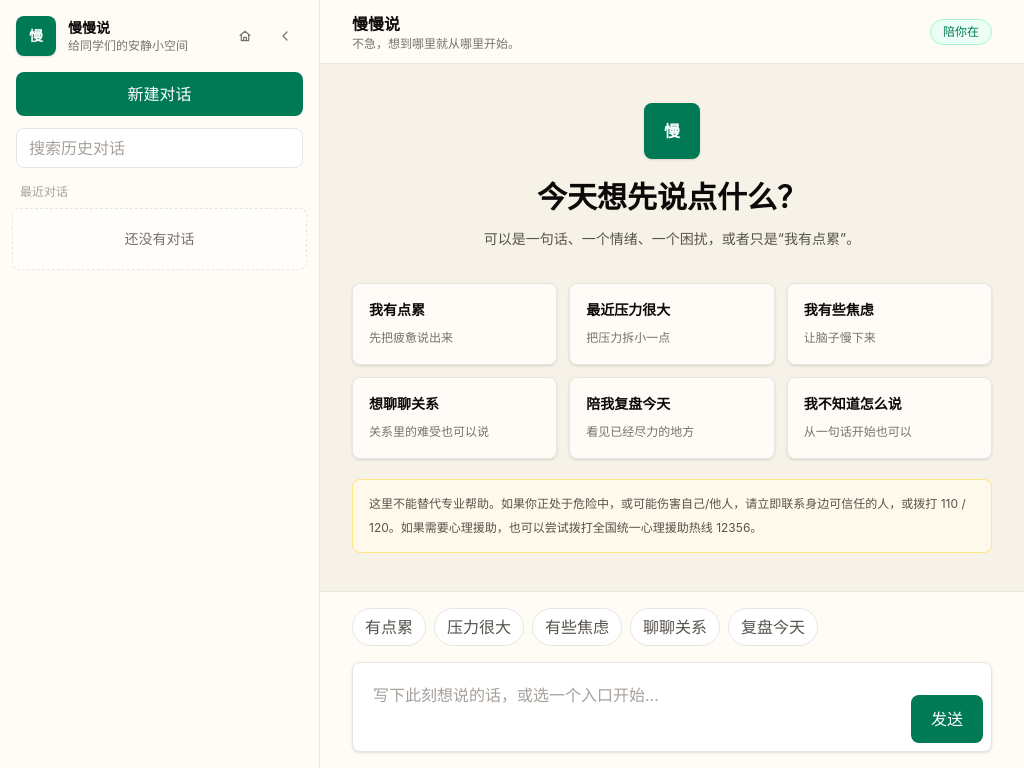
Test: ChatApp › streams assistant replies into the active message bubble
The width and height of the screenshot is (1024, 768).
Type "hello" into the text box named "消息输入" at (630, 707), box [361,671,899,743]
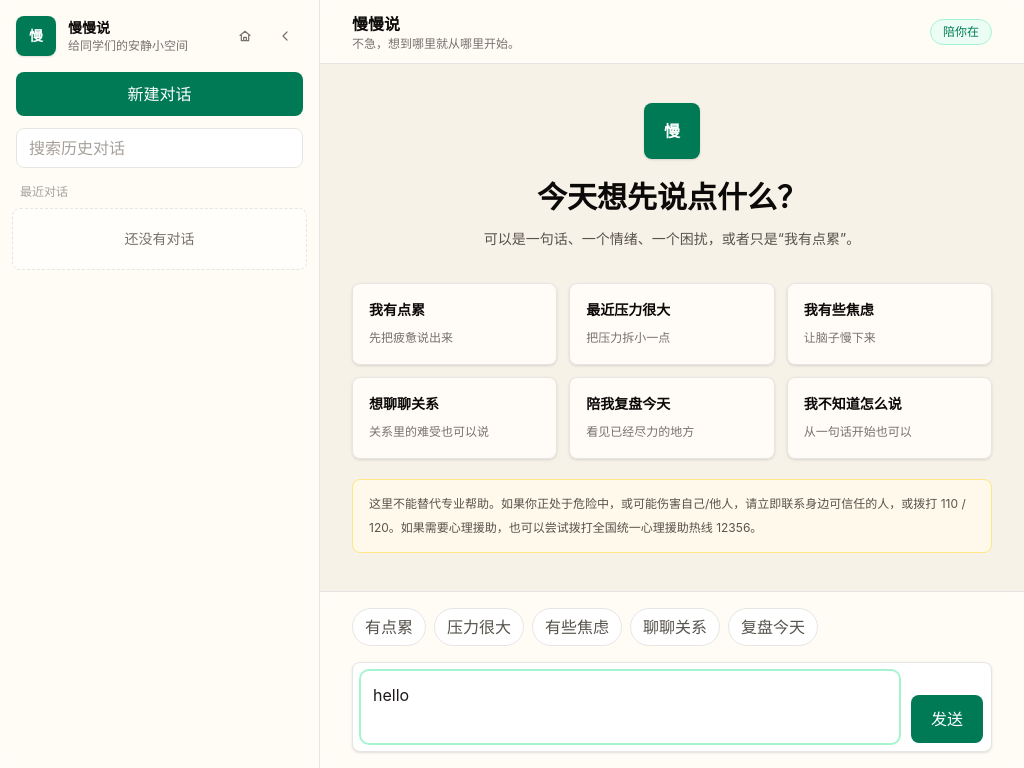
Press Enter
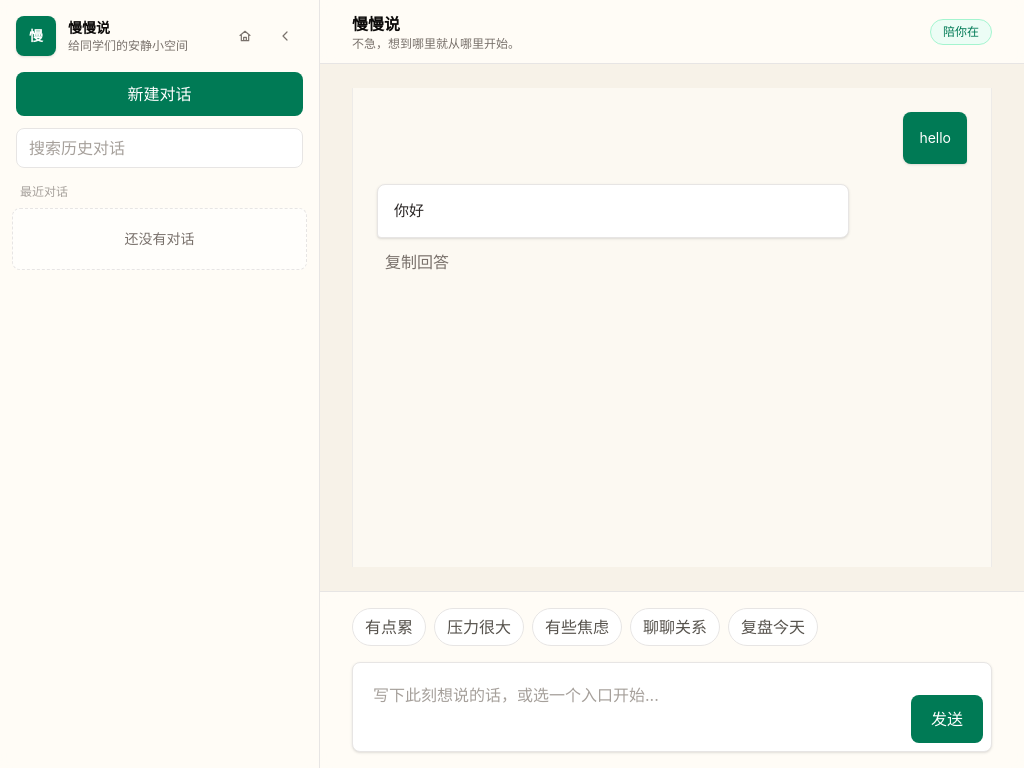
Now the text "你好" is shown, box [394,201,424,220]
